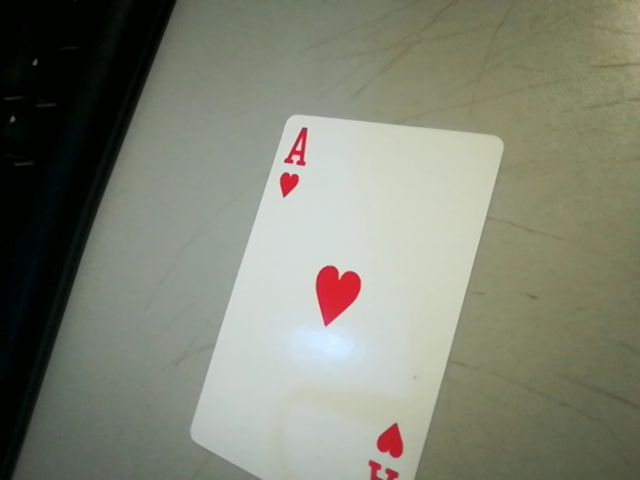hx a: (264, 119, 322, 204)
